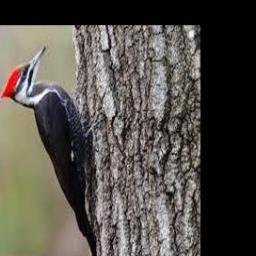Woodpecker: (0, 44, 101, 256)
